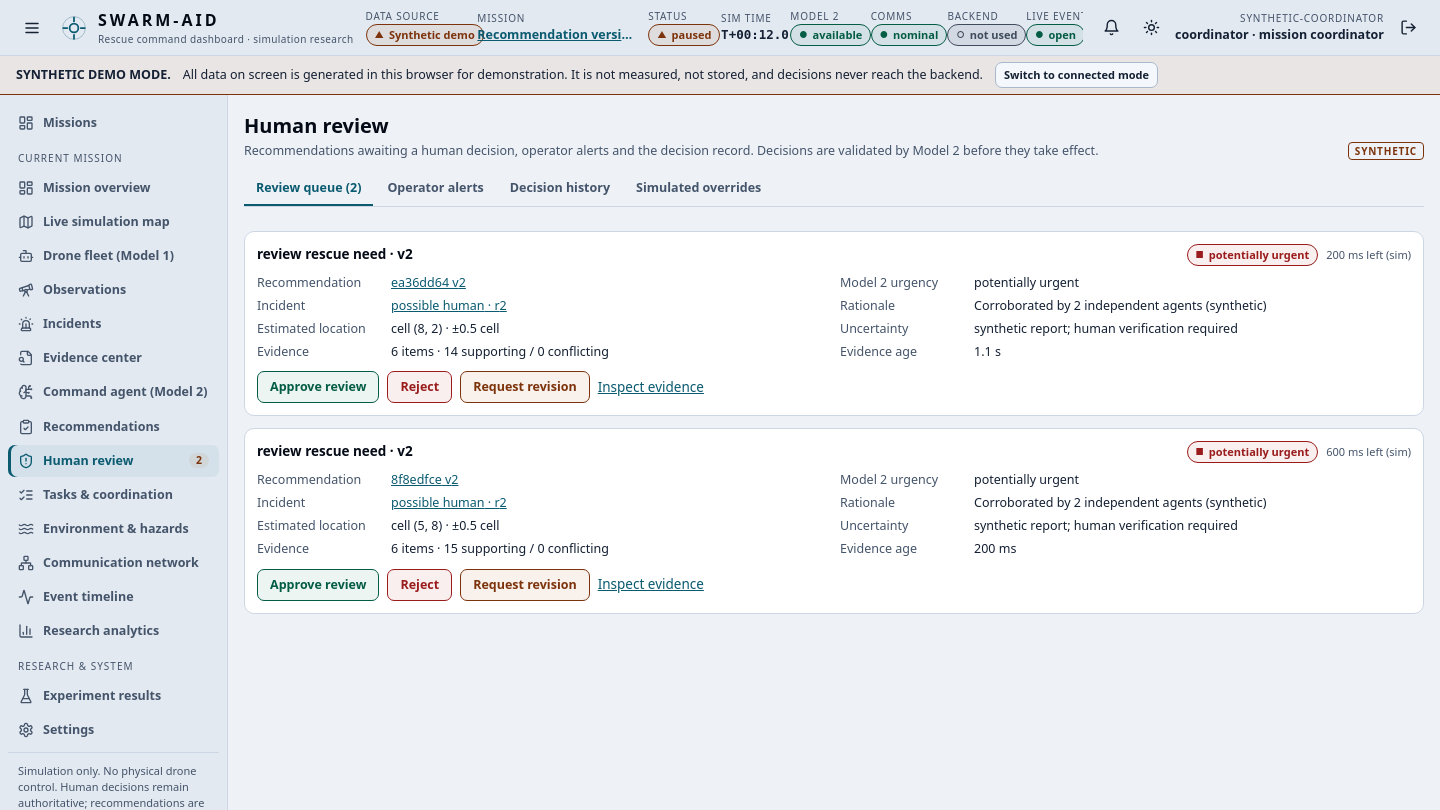
Test: synthetic demo mode › handles a stale recommendation version
The width and height of the screenshot is (1440, 810).
Step 1. Click the button "Approve review" below "6 items · 14 supporting / 0 conflicting" → (318, 387), box x1=257 y1=371 x2=380 y2=403
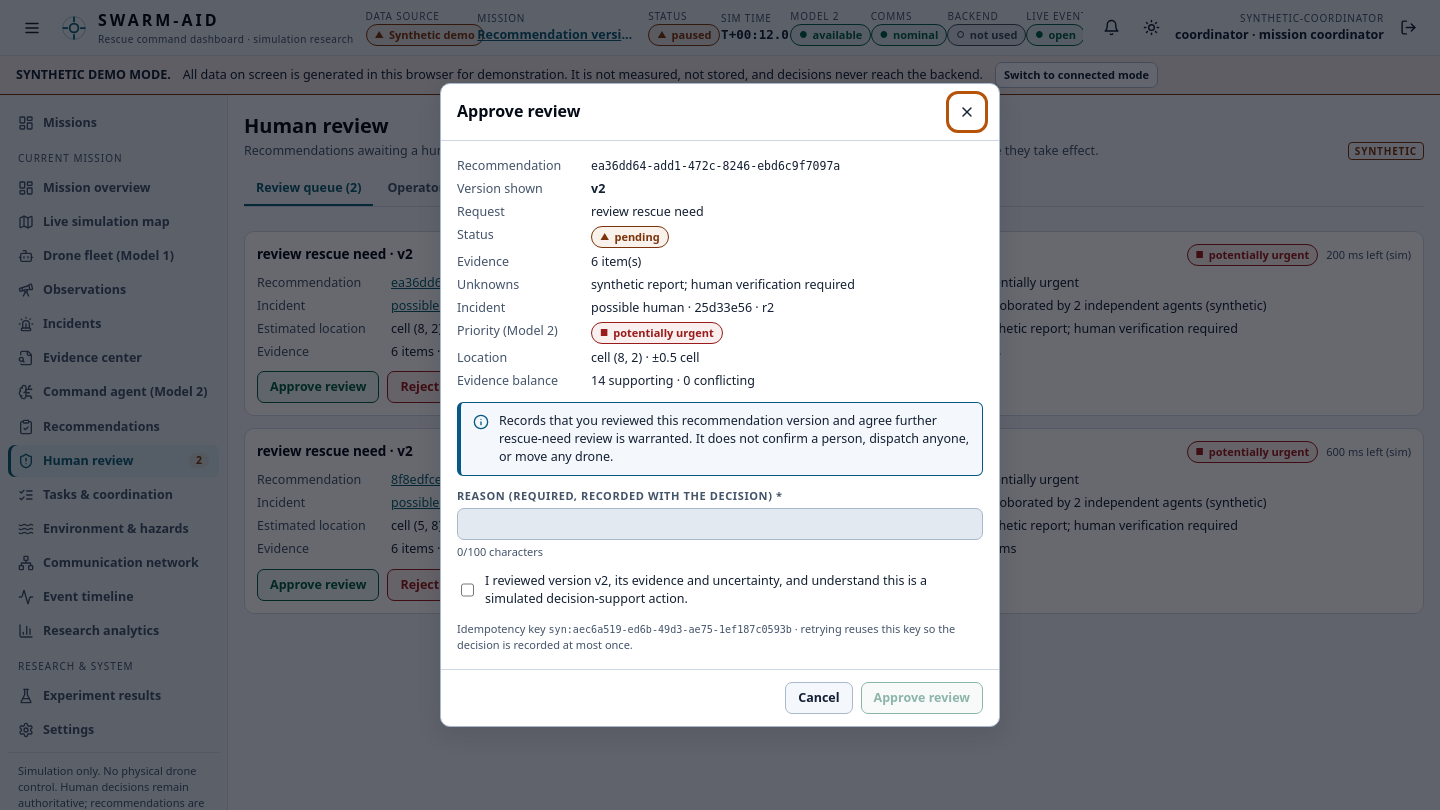
Step 2. Type "check" into the field labelled "Reason (required, recorded with the decision) *" → (720, 524), box x1=457 y1=508 x2=983 y2=540
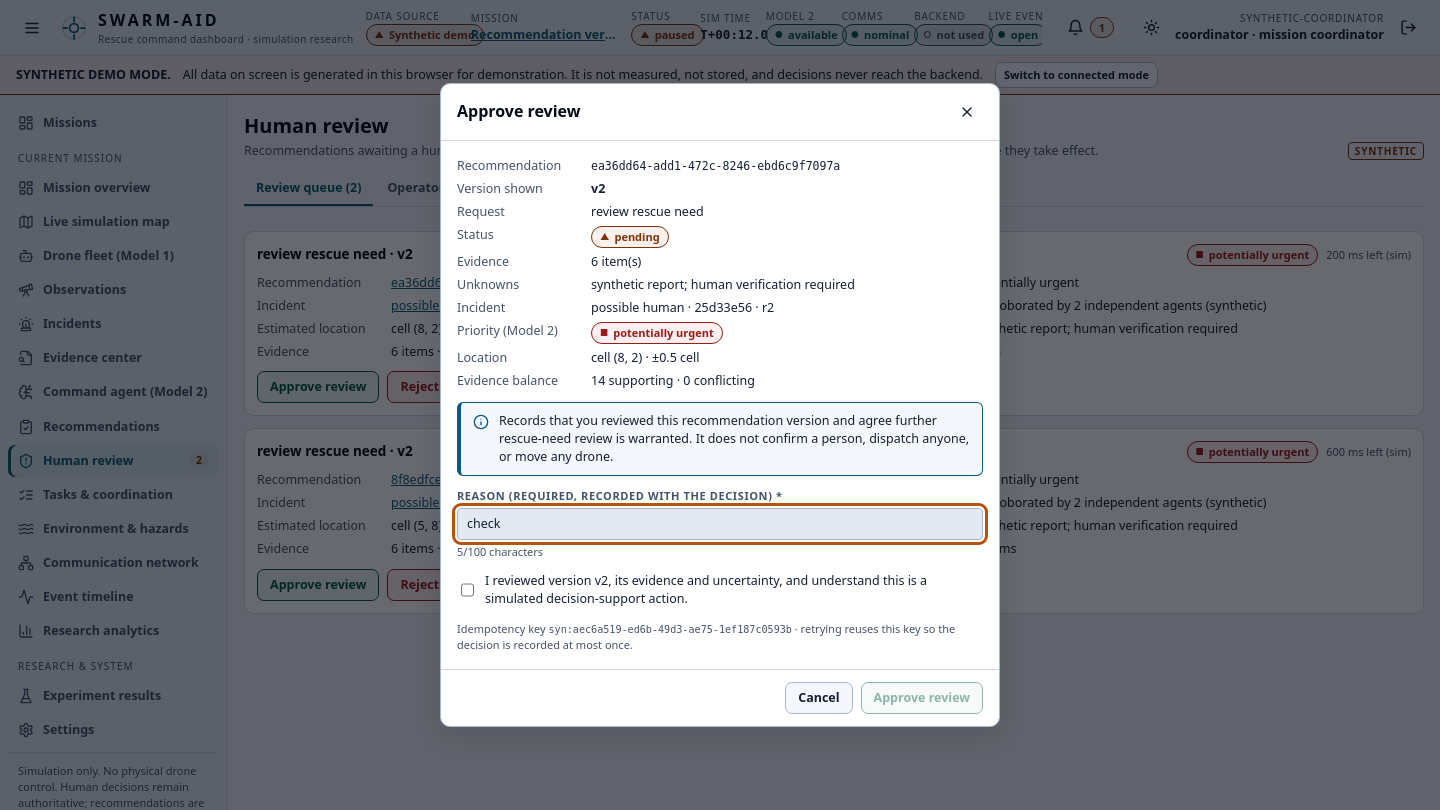
Step 3. Click the checkbox → (468, 590), box x1=461 y1=582 x2=474 y2=598
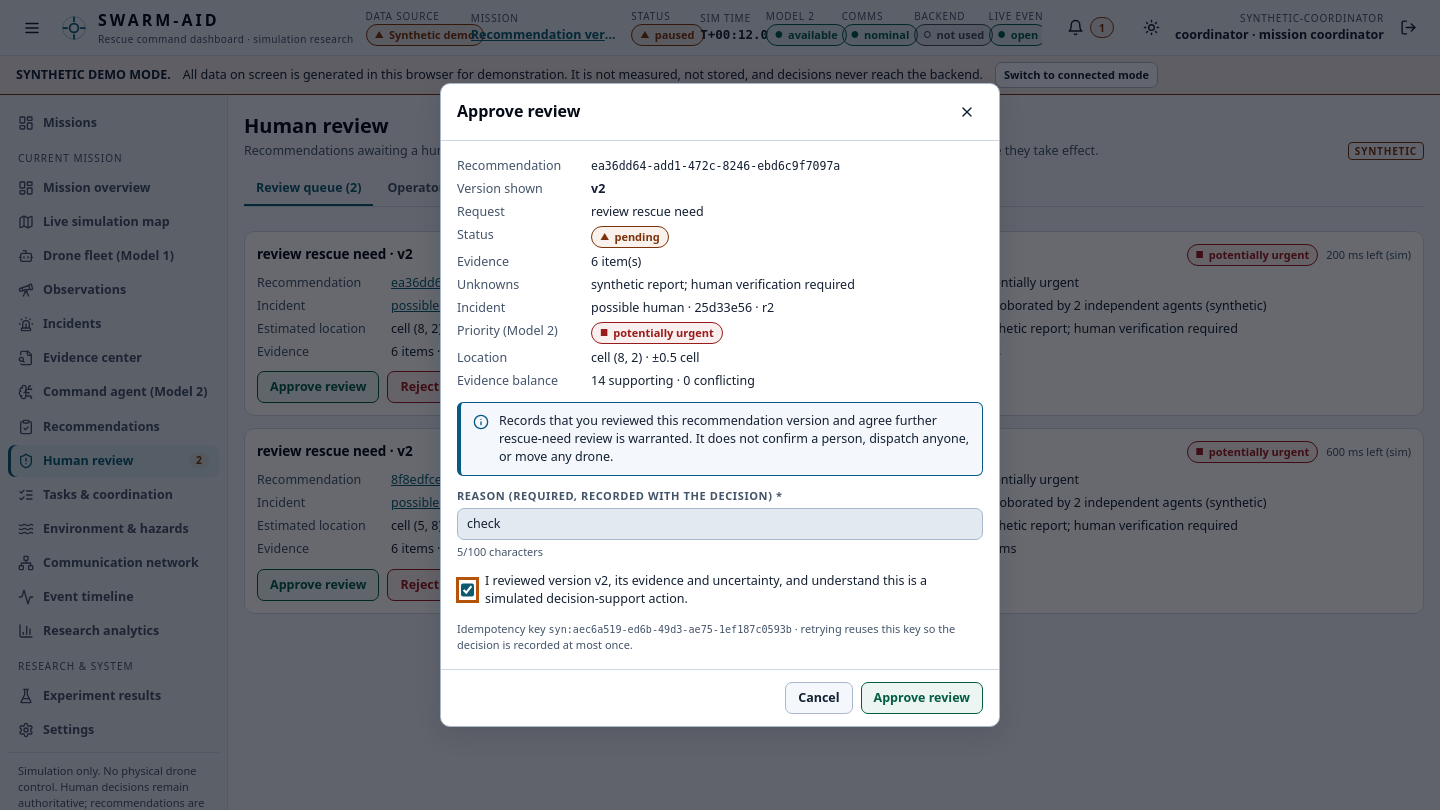
Step 4. Click the button "Approve review" → (922, 698), box x1=860 y1=682 x2=983 y2=714
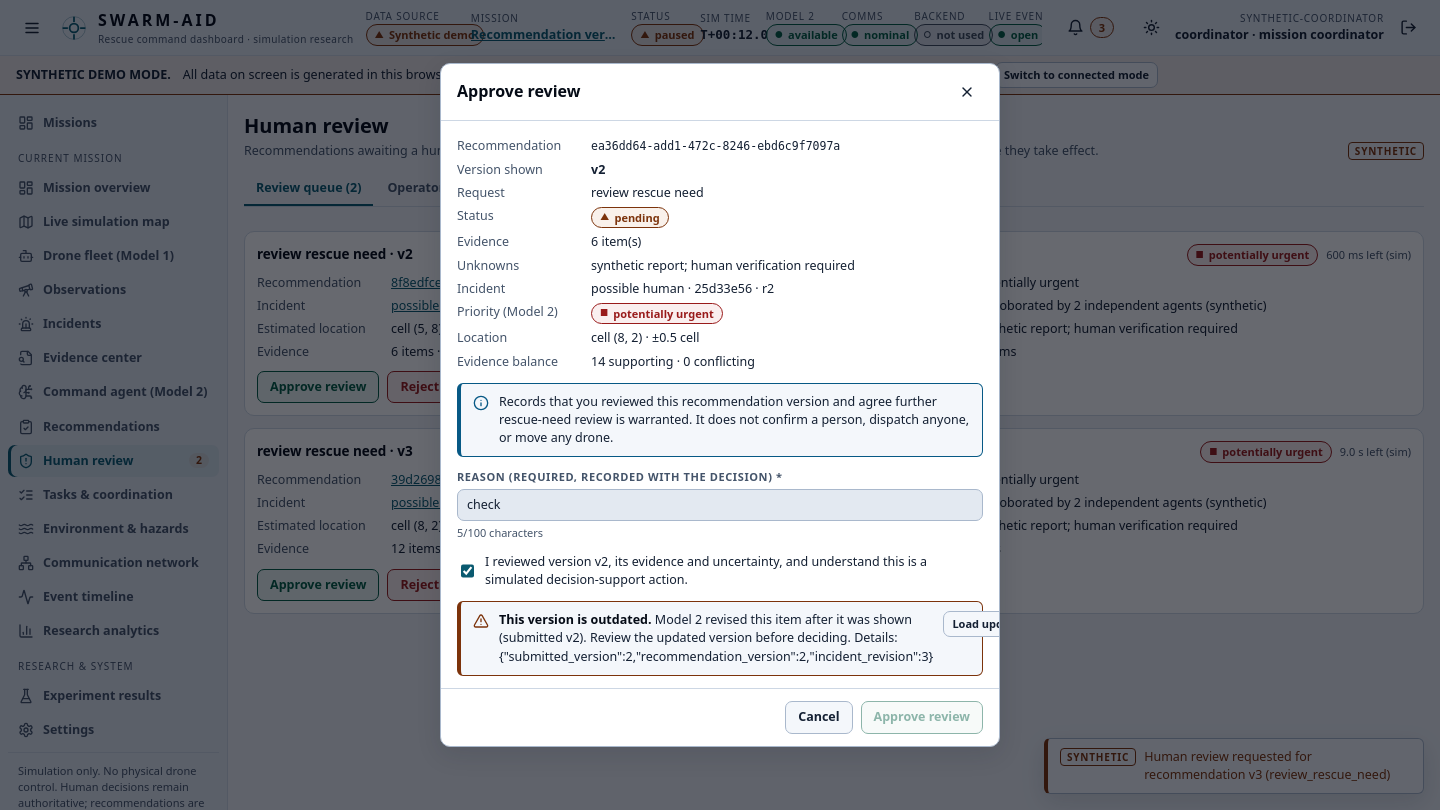
Check: the text "This version is outdated." is shown, box x1=499 y1=611 x2=655 y2=628
